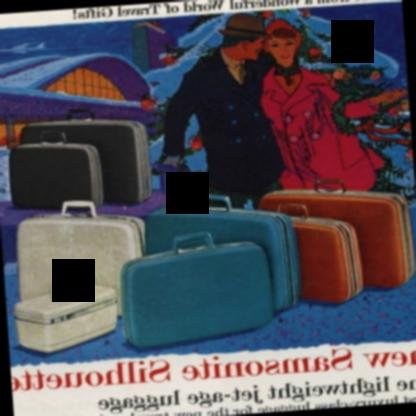suitcase: (144, 191, 307, 313), (255, 177, 416, 291), (117, 231, 269, 351), (19, 200, 148, 302), (22, 110, 150, 206), (270, 204, 365, 306), (6, 131, 103, 209), (13, 280, 118, 352)
